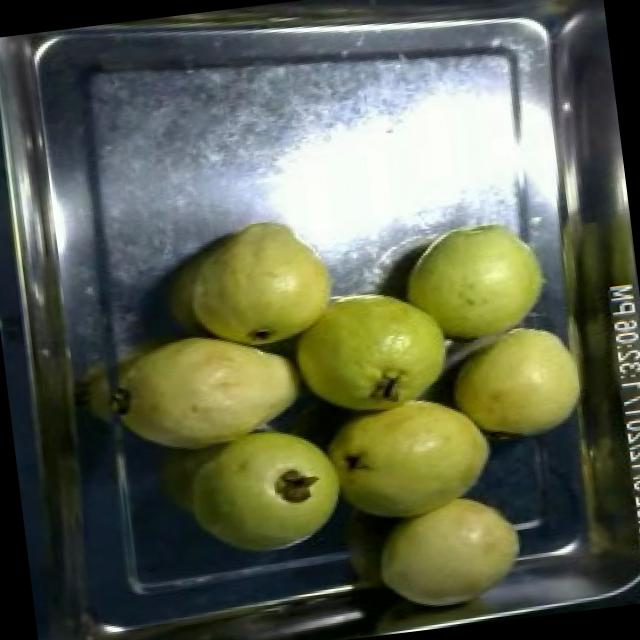Fruit: (104, 312, 324, 476), (153, 202, 353, 368), (266, 266, 475, 422), (176, 409, 368, 573), (380, 203, 568, 361), (299, 394, 508, 534), (359, 478, 538, 630), (431, 310, 597, 456)
